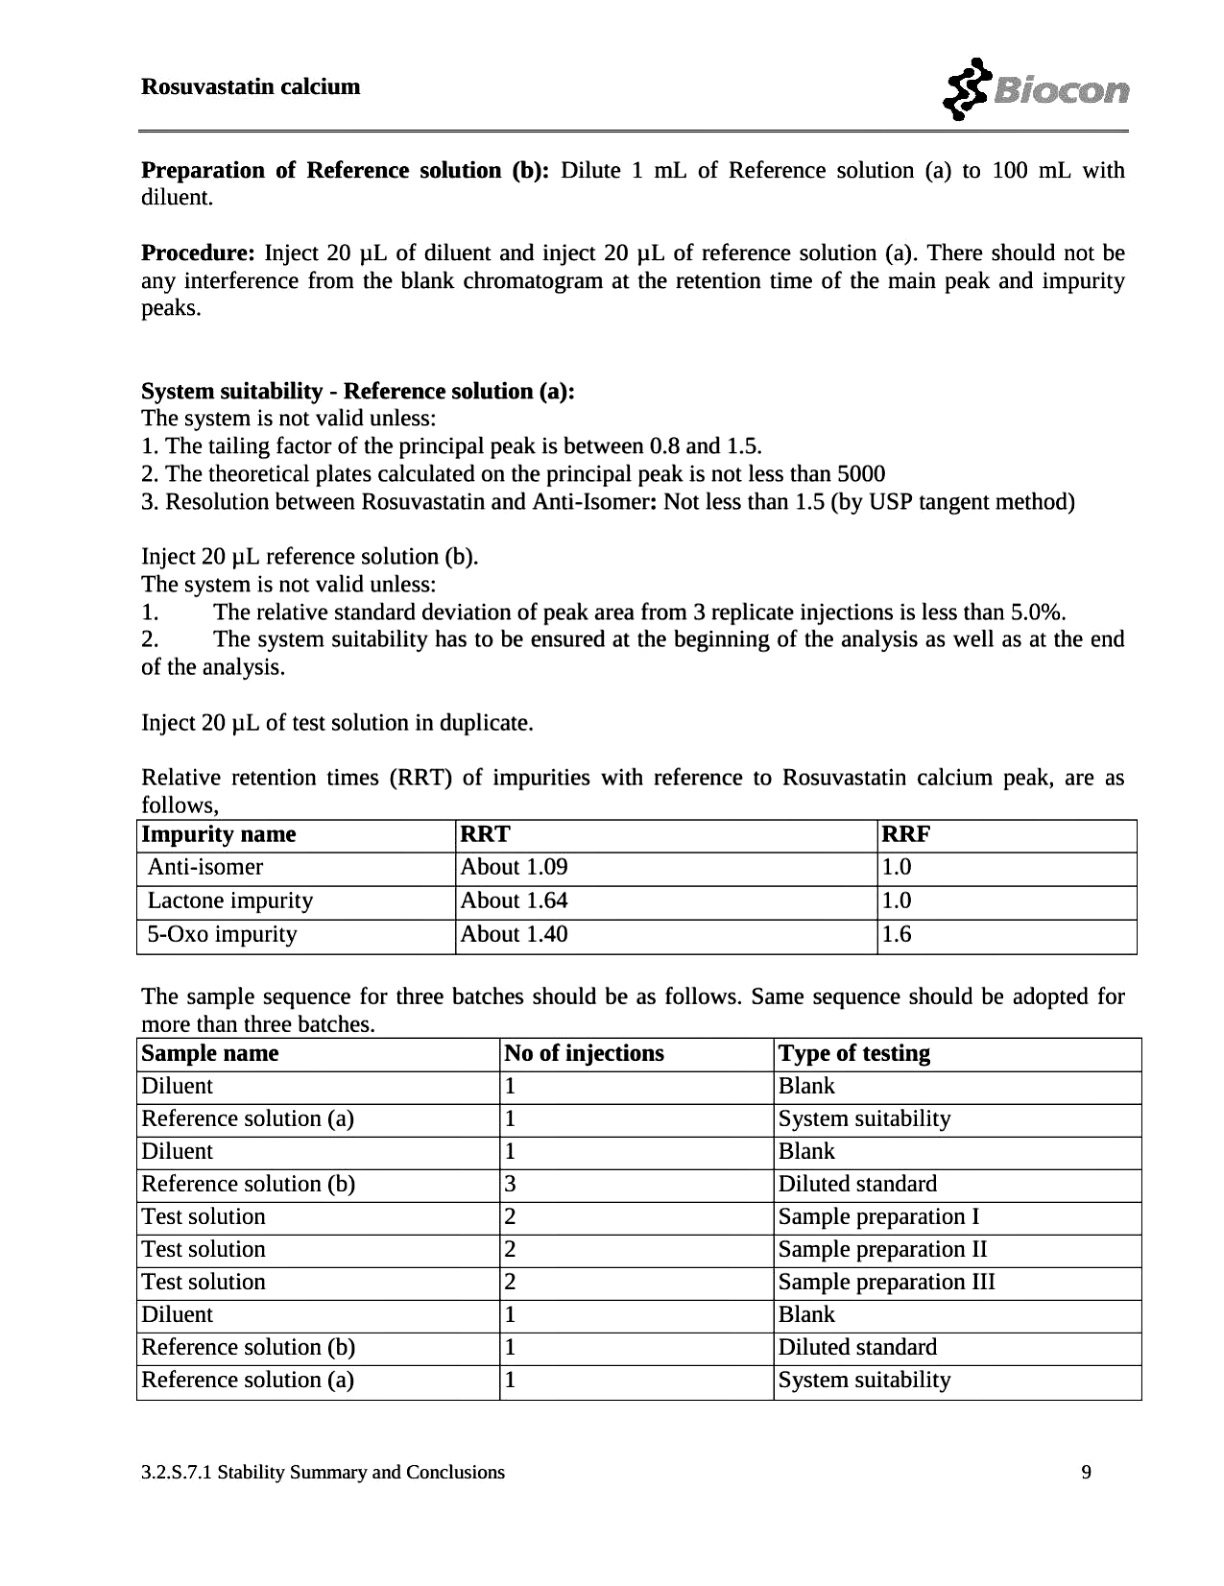full_lined: (135, 1037, 1143, 1401), (135, 819, 1138, 956)
